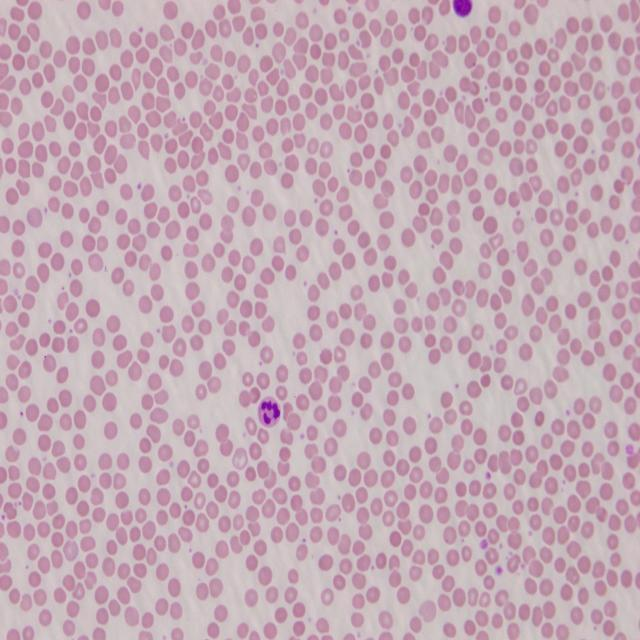cell: (258, 398, 280, 427)
